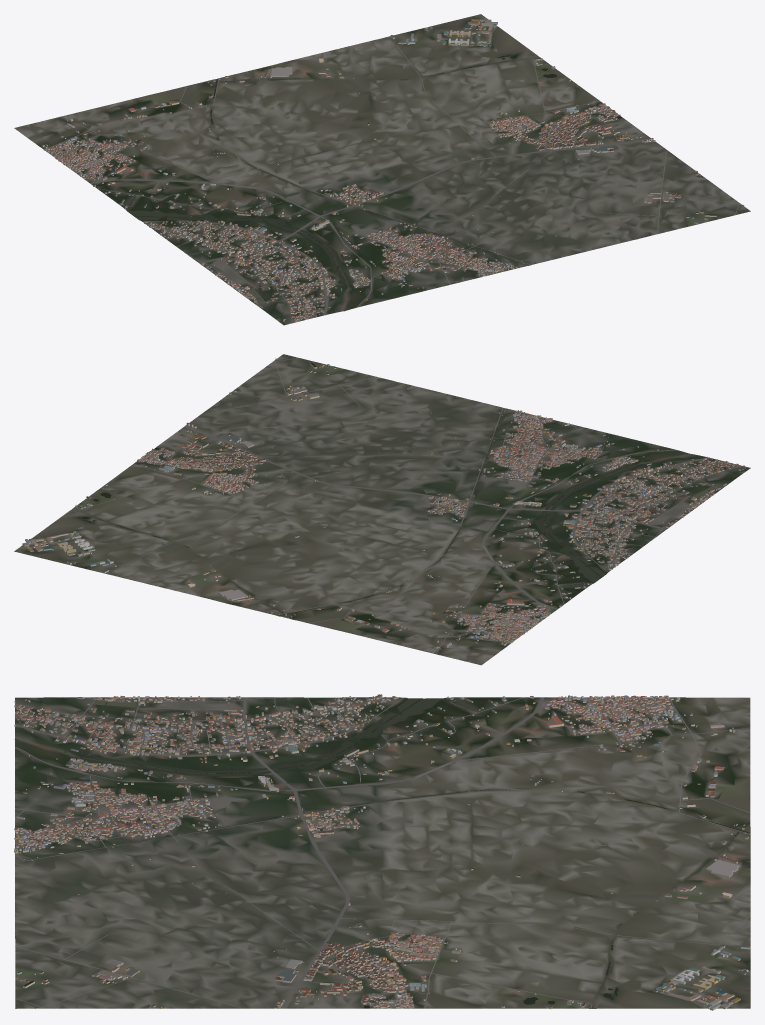
3 renders of one model, top to bottom at view 1: azimuth 30°, elevation 25°; view 2: azimuth 150°, elevation 25°; view 3: azimuth 270°, elevation 25°, orthographic. The views are drawn at different scales.
Parts seen in each view (by area): view 1: ground, buildings, roads, water; view 2: ground, buildings, roads, water; view 3: ground, buildings, roads, water.
Boxes of the visible parts, left/top/right/bottom form: ground: left=14, top=14, right=750, bottom=325; buildings: left=42, top=19, right=744, bottom=323; roads: left=48, top=26, right=741, bottom=322; water: left=128, top=54, right=622, bottom=310; ground: left=14, top=354, right=750, bottom=665; buildings: left=22, top=358, right=745, bottom=649; roads: left=33, top=358, right=741, bottom=654; water: left=78, top=425, right=716, bottom=615; ground: left=15, top=697, right=750, bottom=1008; buildings: left=14, top=694, right=750, bottom=1010; roads: left=14, top=697, right=750, bottom=1008; water: left=14, top=698, right=749, bottom=1008.
Size of the model in its own units: 2828 by 25.38 by 2809.
